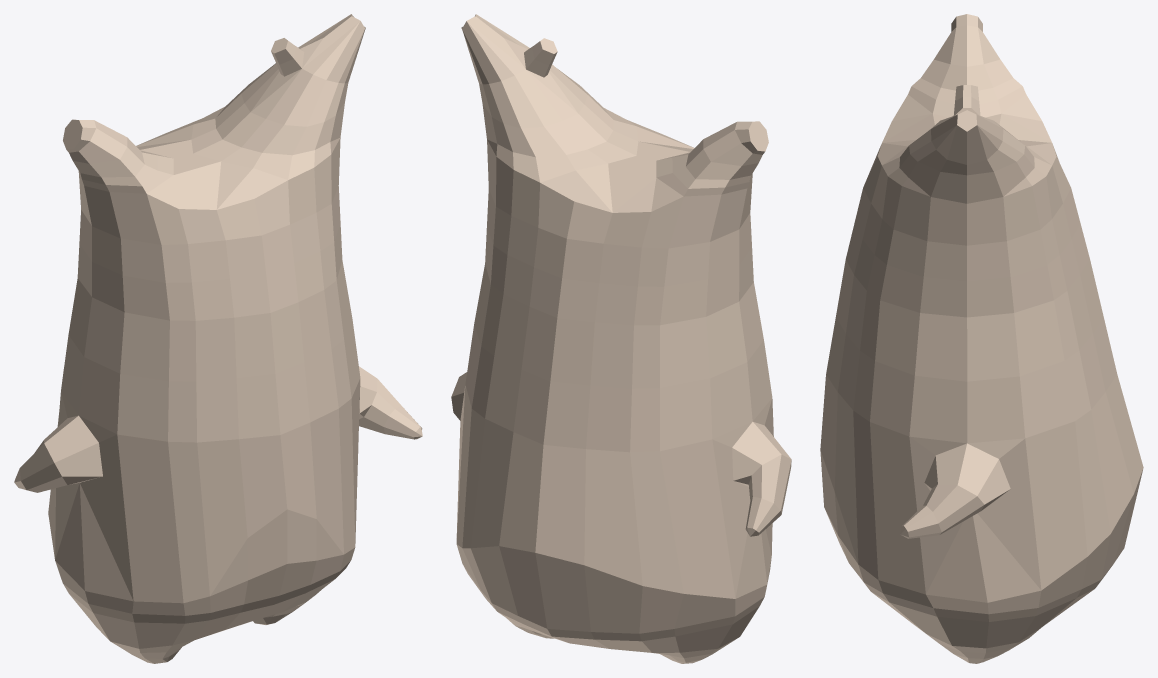
Rendered from frame_0045.obj.
3 renders of one model, left to right at view 1: azimuth 30°, elevation 25°; view 2: azimuth 150°, elevation 25°; view 3: azimuth 270°, elevation 25°, orthographic.
Parts seen in each view (by area): view 1: korok; view 2: korok; view 3: korok.
Part boxes in pixels (<box>): korok: <box>14,14,422,663</box>; korok: <box>451,14,791,663</box>; korok: <box>820,14,1143,663</box>.
Bounding box in the file's own units: 1.36 × 2.16 × 1.07.
